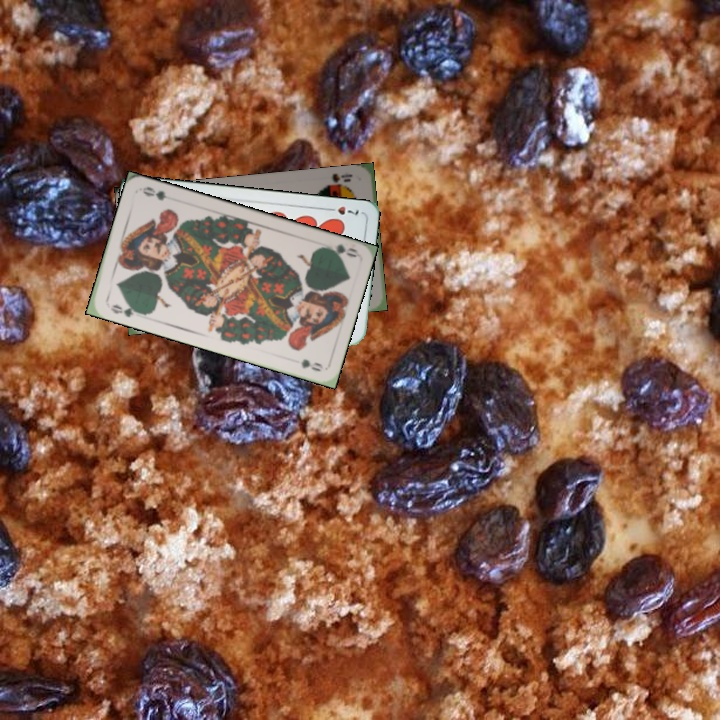GO: (318, 239, 359, 260), (106, 300, 144, 320)
H7: (322, 202, 361, 218)
SO: (328, 170, 355, 185)
